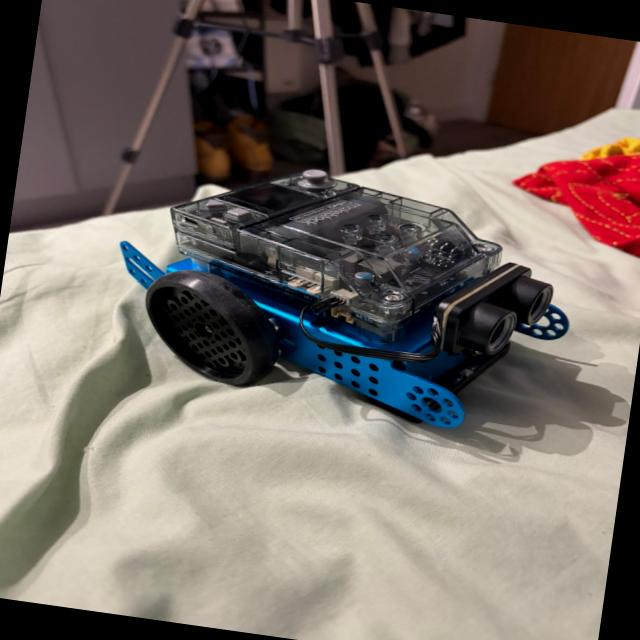mbot-detection: (93, 131, 600, 452)
